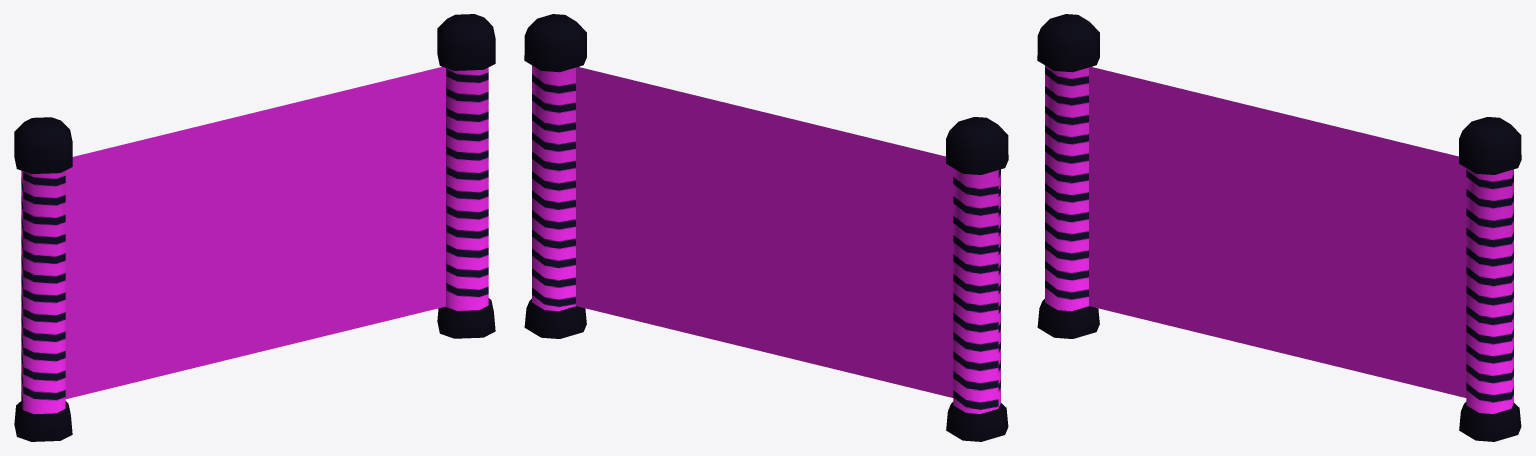
Rendered from Object_Hurdle.FBX.
3 renders of one model, left to right at view 1: azimuth 30°, elevation 25°; view 2: azimuth 150°, elevation 25°; view 3: azimuth 330°, elevation 25°, orthographic.
Parts seen in each view (by area): view 1: Object_Hurdle2, Object_Hurdle1; view 2: Object_Hurdle2, Object_Hurdle1; view 3: Object_Hurdle2, Object_Hurdle1.
Boxes of the visible parts, left/top/right/bottom form: Object_Hurdle2: left=65, top=66, right=445, bottom=399; Object_Hurdle1: left=14, top=14, right=495, bottom=441; Object_Hurdle2: left=576, top=67, right=953, bottom=397; Object_Hurdle1: left=524, top=14, right=1008, bottom=441; Object_Hurdle2: left=1089, top=67, right=1466, bottom=397; Object_Hurdle1: left=1037, top=14, right=1521, bottom=441.
Bounding box in the file's own units: 4.52 × 2.75 × 0.5178.
